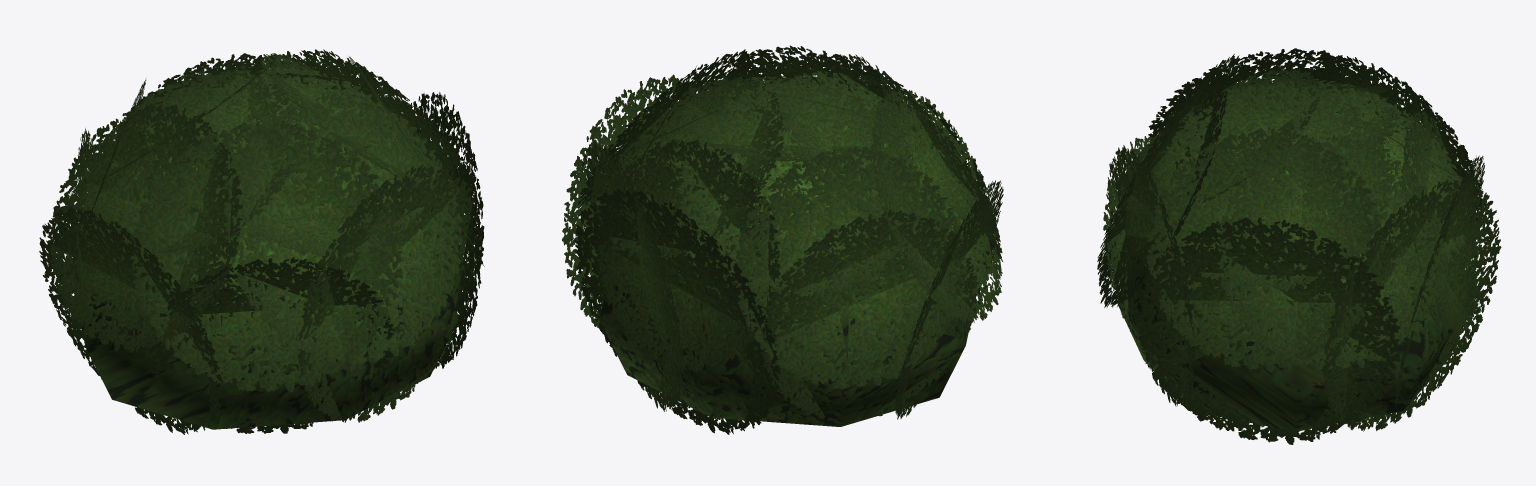
Rendered from shrub.glb.
3 renders of one model, left to right at view 1: azimuth 30°, elevation 25°; view 2: azimuth 150°, elevation 25°; view 3: azimuth 270°, elevation 25°, orthographic. The views are drawn at different scales.
Parts seen in each view (by area): view 1: LOD0; view 2: LOD0; view 3: LOD0.
Part boxes in pixels (x1,y1,x2,y2): LOD0: [39, 49, 484, 434]; LOD0: [562, 45, 1003, 434]; LOD0: [1097, 48, 1501, 444].
Size of the model in its own units: 1.42 by 1.04 by 1.38.
Materials: 1 (1 with a texture image).
